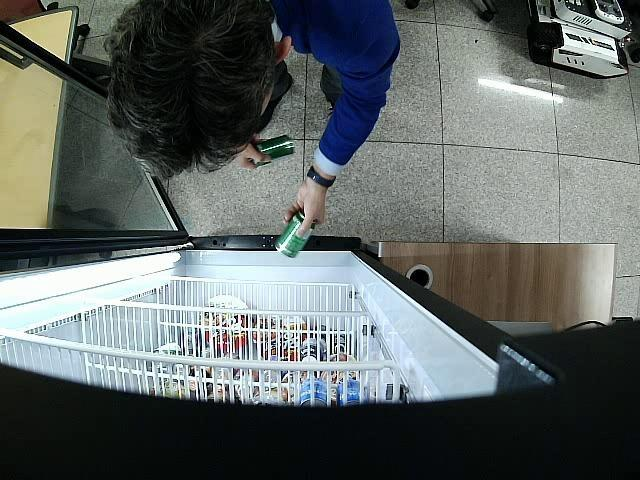12_chilsungCider: (274, 211, 316, 257), (249, 136, 294, 166)
